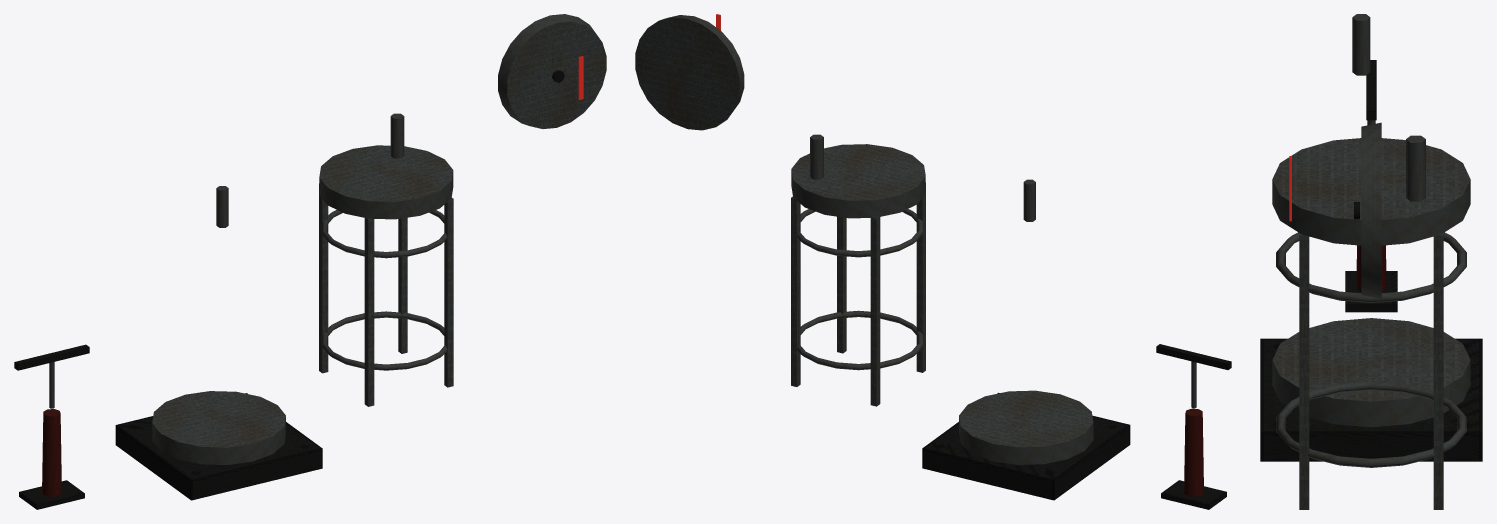
File: pressure.glb
3 renders of one model, left to right at view 1: azimuth 30°, elevation 25°; view 2: azimuth 150°, elevation 25°; view 3: azimuth 270°, elevation 25°, orthographic. The views are drawn at different scales.
Parts seen in each view (by area): view 1: tank_frame, tank_base, gauge_body, pump_body, pump_rod; view 2: tank_frame, tank_base, gauge_body, pump_body, pump_rod; view 3: tank_frame, tank_base, gauge_body, pump_body, pump_rod.
Boxes of the visible parts, x1,y1,x2,y2 form: tank_frame: (319,113,453,406); tank_base: (115,186,322,500); gauge_body: (498,14,606,128); pump_body: (19,409,84,509); pump_rod: (14,344,89,408); tank_frame: (791,134,925,406); tank_base: (922,179,1130,500); gauge_body: (635,15,744,130); pump_body: (1161,408,1226,509); pump_rod: (1156,344,1231,408); tank_frame: (1272,135,1470,509); tank_base: (1260,14,1482,461); gauge_body: (1354,122,1381,298); pump_body: (1345,245,1397,312); pump_rod: (1366,60,1376,125).
Size of the model in its own units: 4.94 by 2.86 by 1.1.
4 materials, 3 textured.
